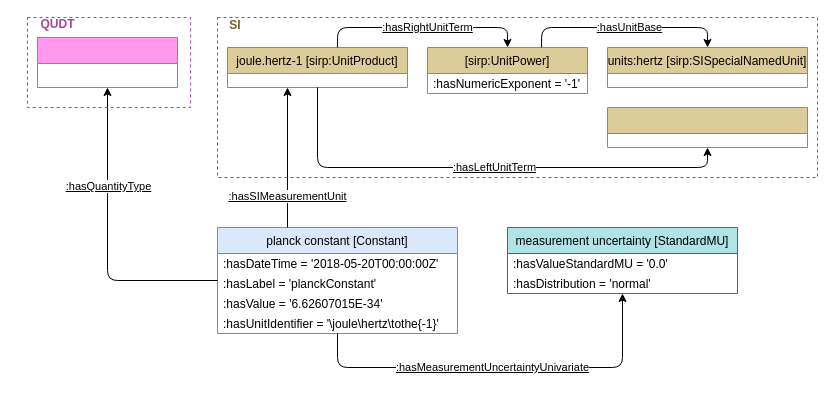
Some shapes in this 835 by 393 pixel diagram are drawn without their labels. Each missing label, with the centre of its shape:
"quantitykind:Action" goes at (107,62).
"units:joule [sirp:SISpecialNamedUnit]" goes at (707,127).
